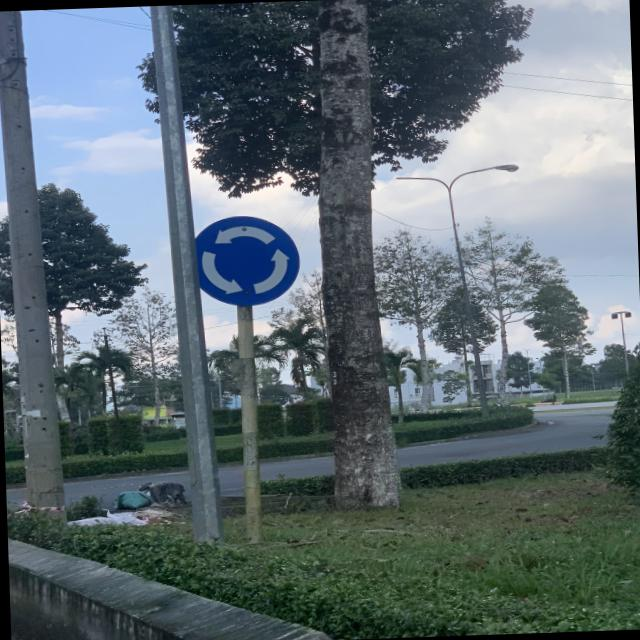Xe_Bus: (190, 212, 302, 308)
